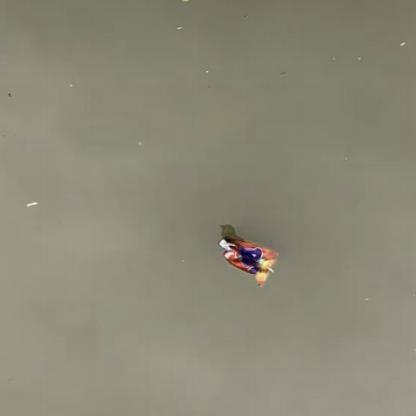Trash: (219, 237, 274, 284)
